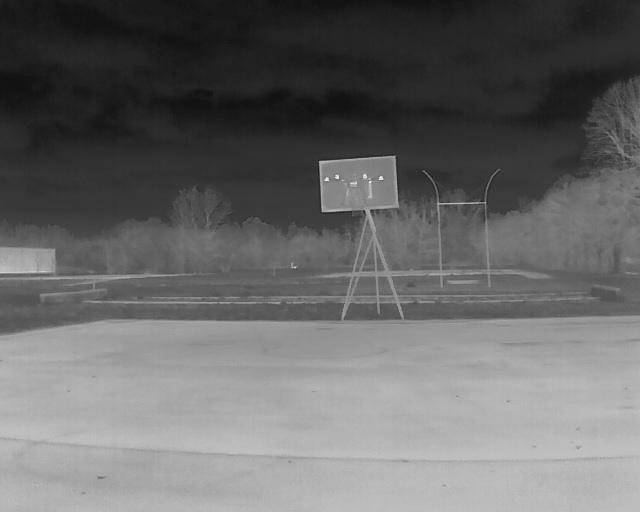drone: (322, 170, 386, 210)
